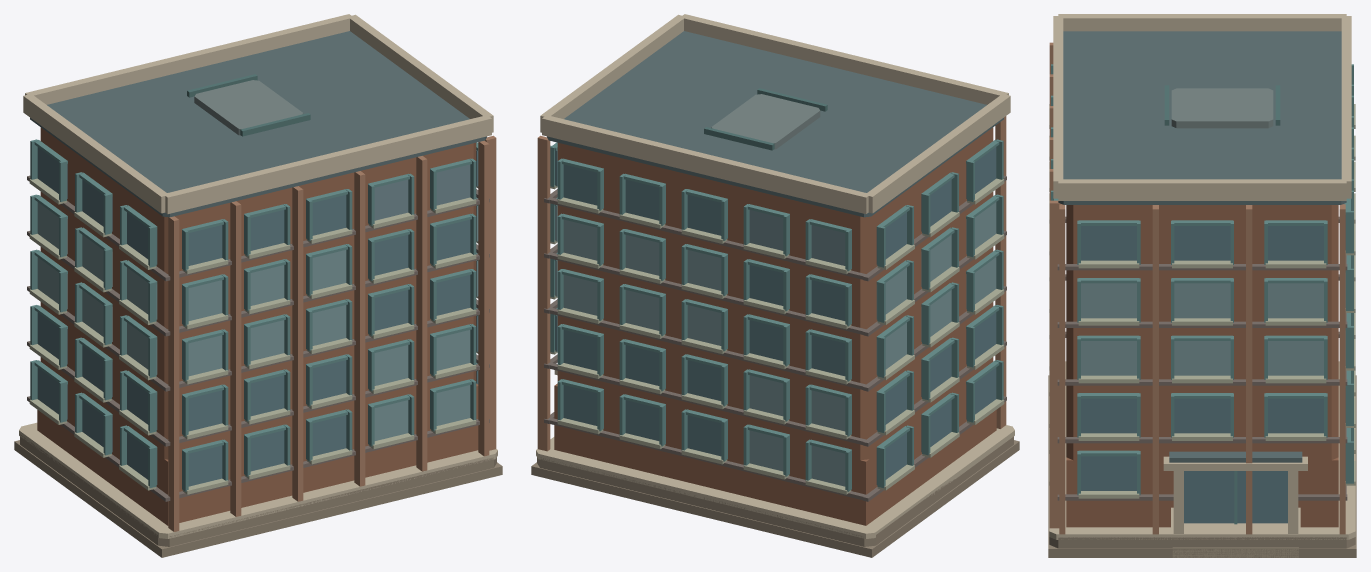
3 views of the same model, side by side, from view 1: azimuth 30°, elevation 25°; view 2: azimuth 150°, elevation 25°; view 3: azimuth 270°, elevation 25° (orthographic). The views are drawn at different scales.
Visible parts, largest first — view 1: form, relief, glaze, glowing; view 2: form, relief, glaze, glowing; view 3: form, glaze, relief, glowing.
Boxes of the visible parts, x1,y1,x2,y2 form: form: (14,14,502,557); relief: (29,139,478,494); glaze: (37,147,478,486); glowing: (127,250,408,440); form: (531,14,1019,557); relief: (550,139,1004,494); glaze: (555,147,996,486); glowing: (555,202,996,471); form: (1048,14,1356,557); glaze: (1081,215,1345,523); relief: (1049,64,1355,524); glowing: (1268,283,1323,318).
Size of the model in its own units: 12 by 12 by 9.
